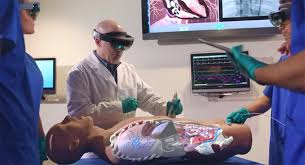hololens: (90, 27, 136, 53), (268, 4, 294, 27), (18, 1, 41, 20)
